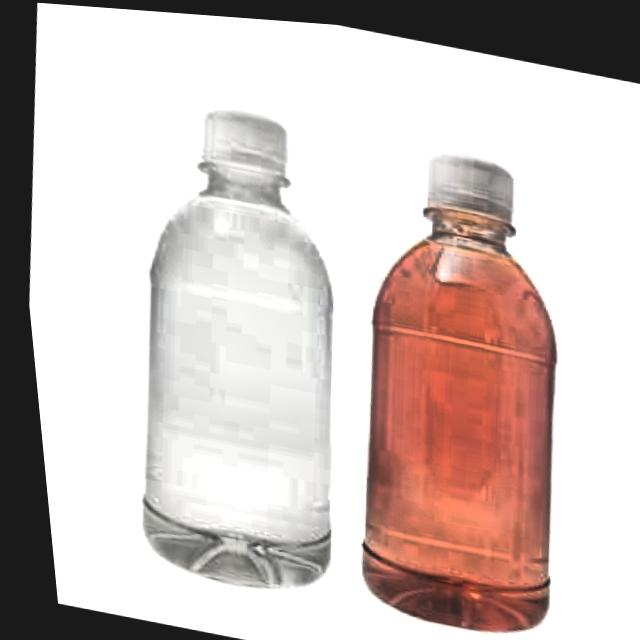Bottles: (273, 51, 631, 640), (51, 60, 395, 633)
